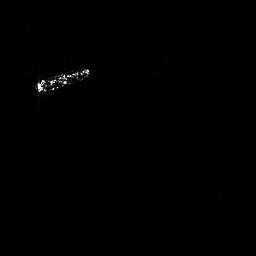ship: (32, 64, 90, 97)
